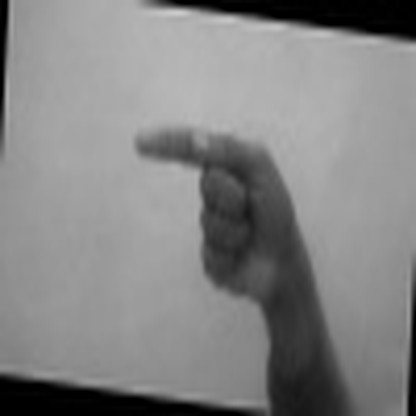g: (114, 114, 334, 302)
